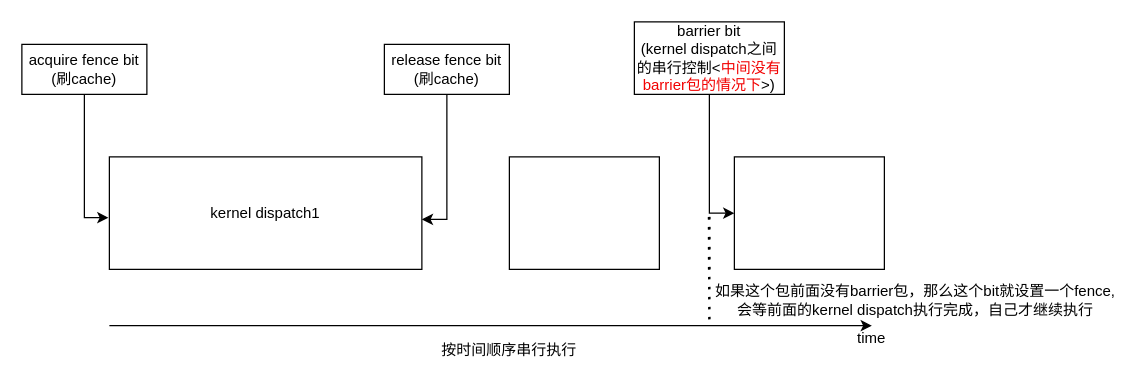
This 1144x391 diagram has some shape labels left out. Each missing label, with the box of its shape:
barrier包 包括barrier and和barrier or: (508, 156, 659, 269)
kernel dispatch2: (733, 156, 884, 269)
